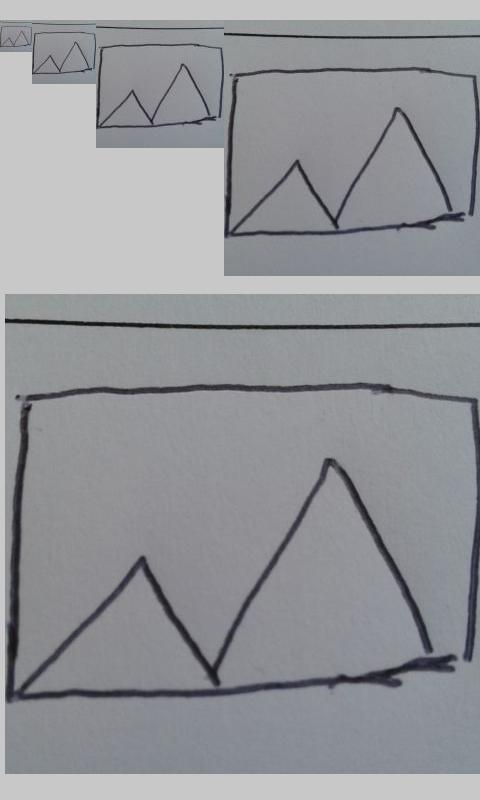image_view: (13, 383, 478, 705), (228, 65, 480, 238), (98, 41, 225, 129), (33, 31, 96, 75), (1, 25, 32, 48)
